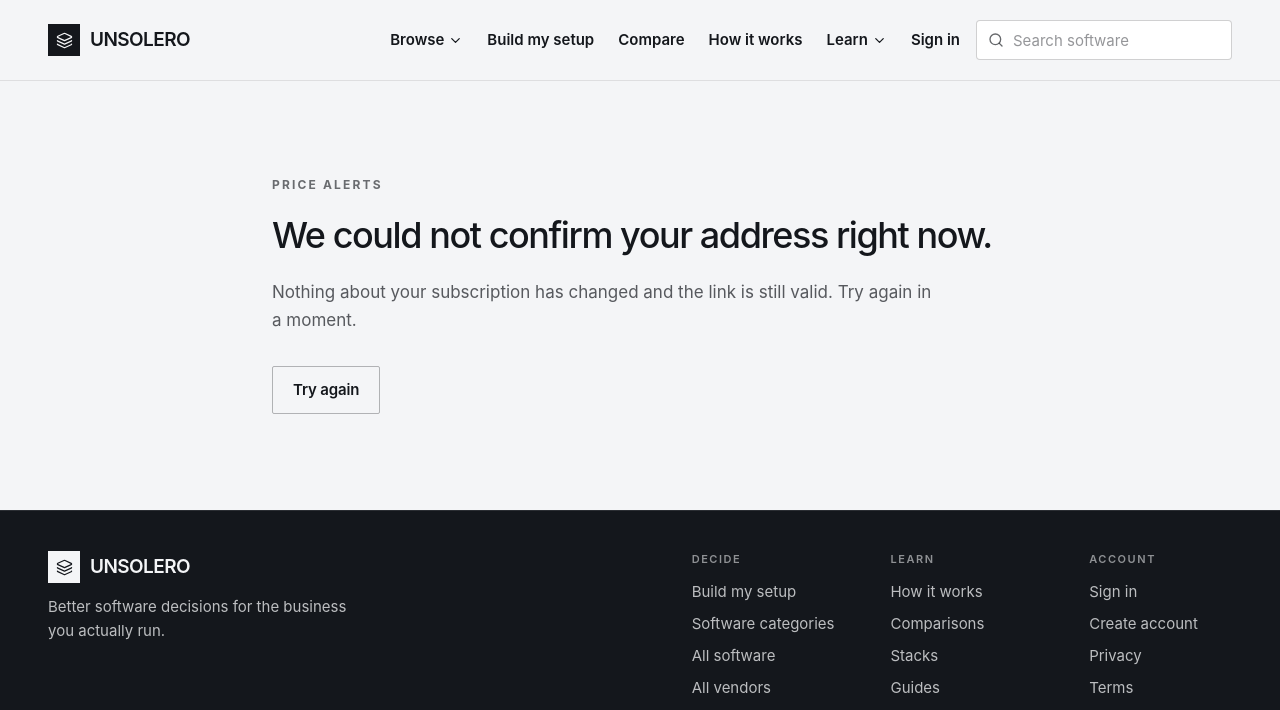
NewsletterConfirmPage › keeps the link alive when the service fails and lets the reader retry
Expected: the message shows "could not confirm", [272,213,992,257]
Click the button "Try again".
click(326, 390)  # box [272,366,380,414]
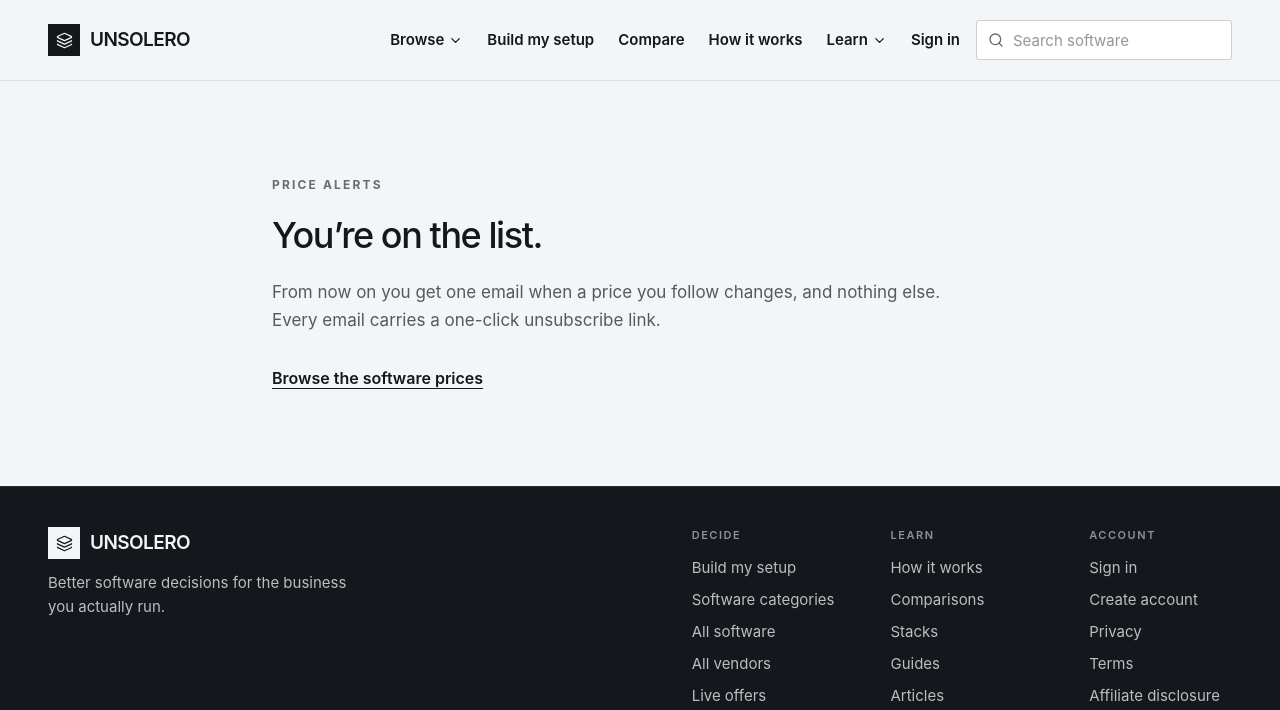
Result: the message shows "on the list" at [272,213,542,257]
